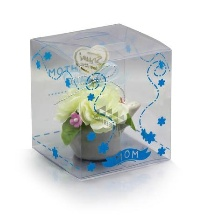plastic_box: (23, 16, 177, 186)
